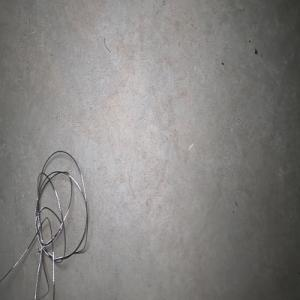Wire: (0, 150, 87, 300)
